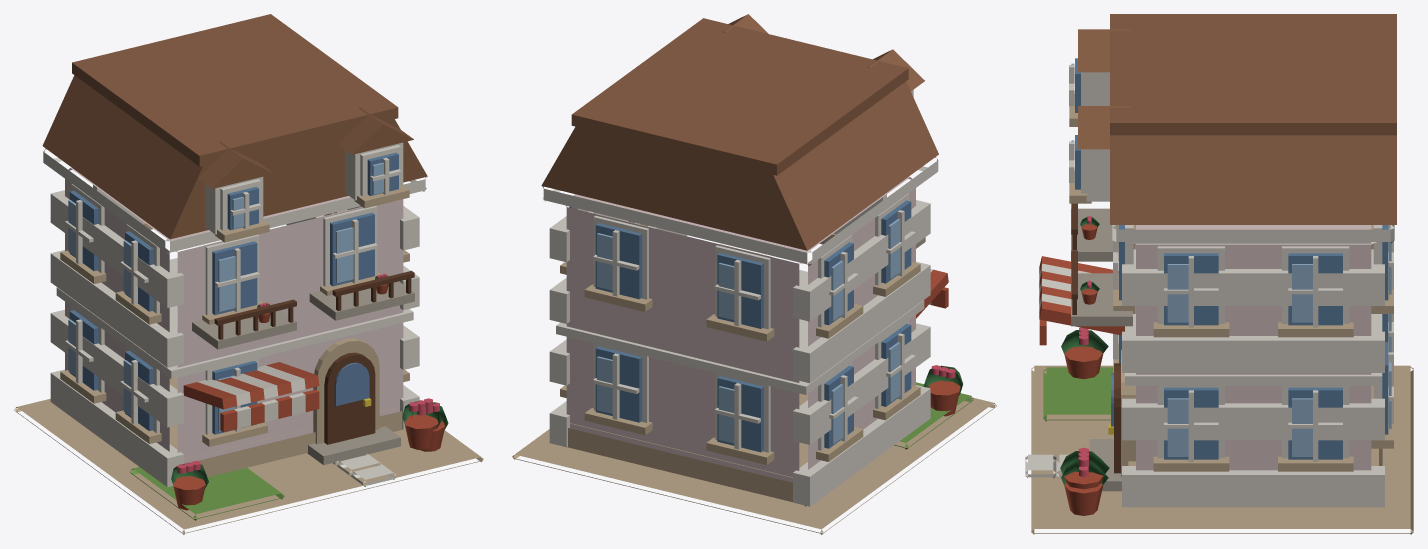
Rendered from building-small-c.glb.
3 views of the same model, side by side, from view 1: azimuth 30°, elevation 25°; view 2: azimuth 150°, elevation 25°; view 3: azimuth 270°, elevation 25° (orthographic). The views are drawn at different scales.
Visible parts, largest first — view 1: building-small-c; view 2: building-small-c; view 3: building-small-c.
Boxes of the visible parts, x1,y1,x2,y2 form: building-small-c: [14, 14, 483, 534]; building-small-c: [512, 14, 996, 534]; building-small-c: [1025, 14, 1413, 534].
Size of the model in its own units: 0.86 by 0.9334 by 0.8522.
